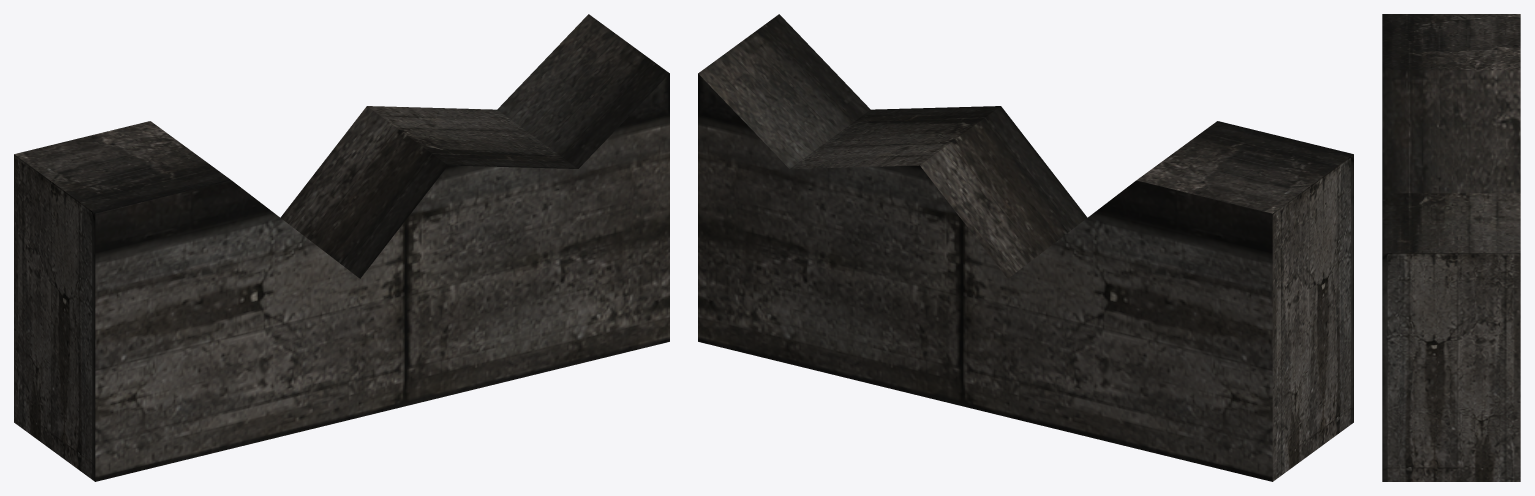
The model's file is Tombstone04.fbx.
3 views of the same model, side by side, from view 1: azimuth 30°, elevation 25°; view 2: azimuth 150°, elevation 25°; view 3: azimuth 270°, elevation 25° (orthographic). The views are drawn at different scales.
Parts seen in each view (by area): view 1: Tombstone04; view 2: Tombstone04; view 3: Tombstone04.
Boxes of the visible parts, x1=… form: Tombstone04: x1=14, y1=14, x2=669, y2=481; Tombstone04: x1=698, y1=14, x2=1353, y2=481; Tombstone04: x1=1382, y1=14, x2=1520, y2=481.
Bounding box in the file's own units: 0.2519 × 0.1124 × 0.0617.
